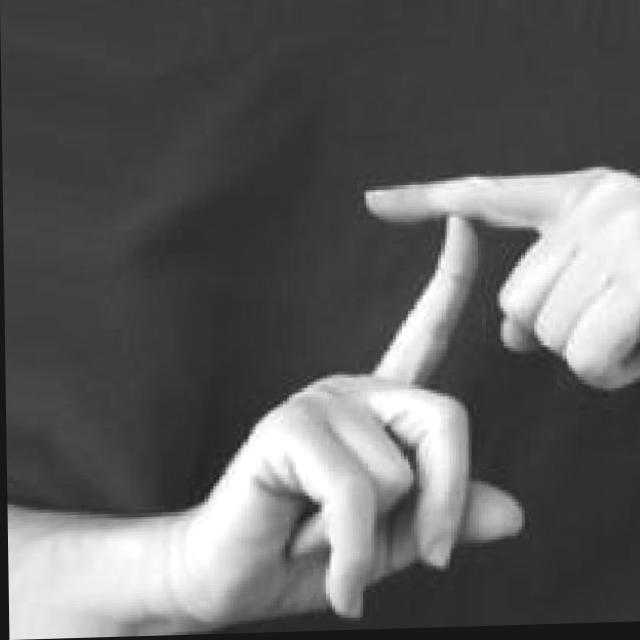T: (178, 157, 640, 634)
